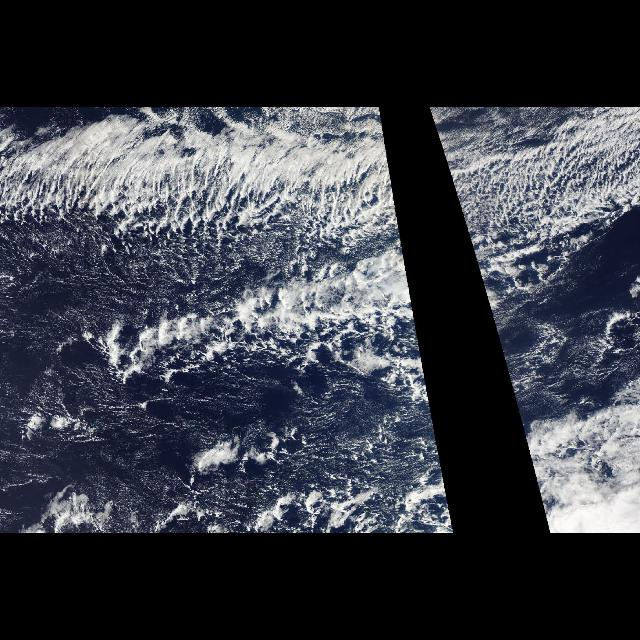Fish: (4, 120, 428, 467), (434, 134, 618, 236)
Gravel: (130, 284, 428, 390)
